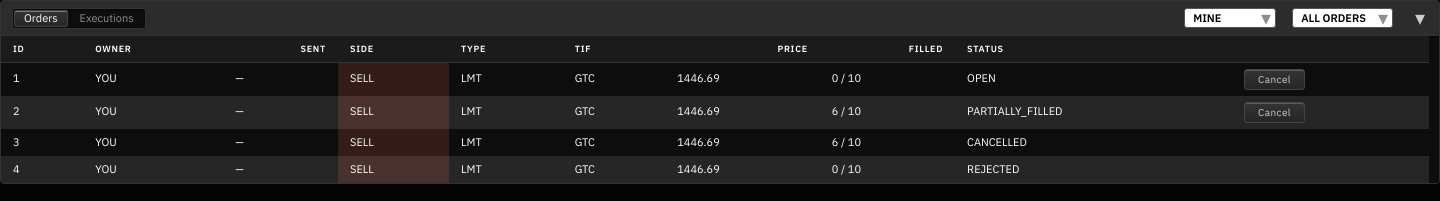
Test: blotter status filter (D6) › shows the dim empty message when nothing matches
Click the button with test id "blotter-filter-trigger" at point(1343, 18), box [1292,8,1393,28]
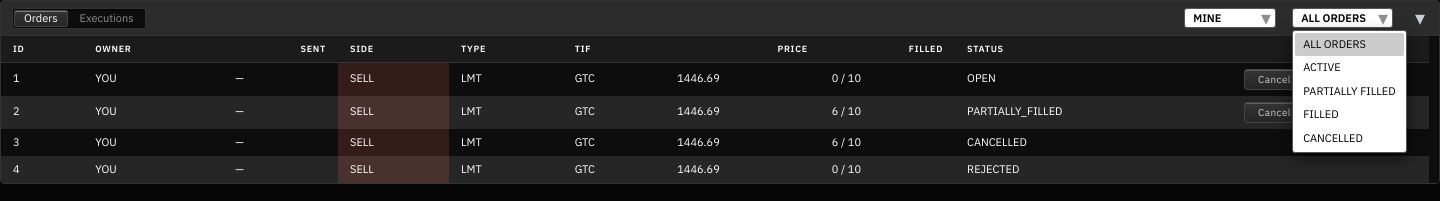
Press the mouse on the option "FILLED" at point(1321, 114), box [1303,107,1339,121]
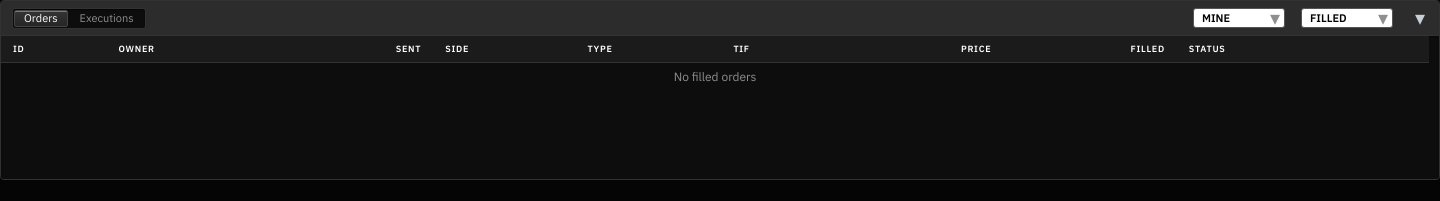
Expected: no rows with test id "open-orders-row" are shown
Expected: the cell with test id "open-orders-filter-empty" reads "No filled orders", [674,69,756,84]
